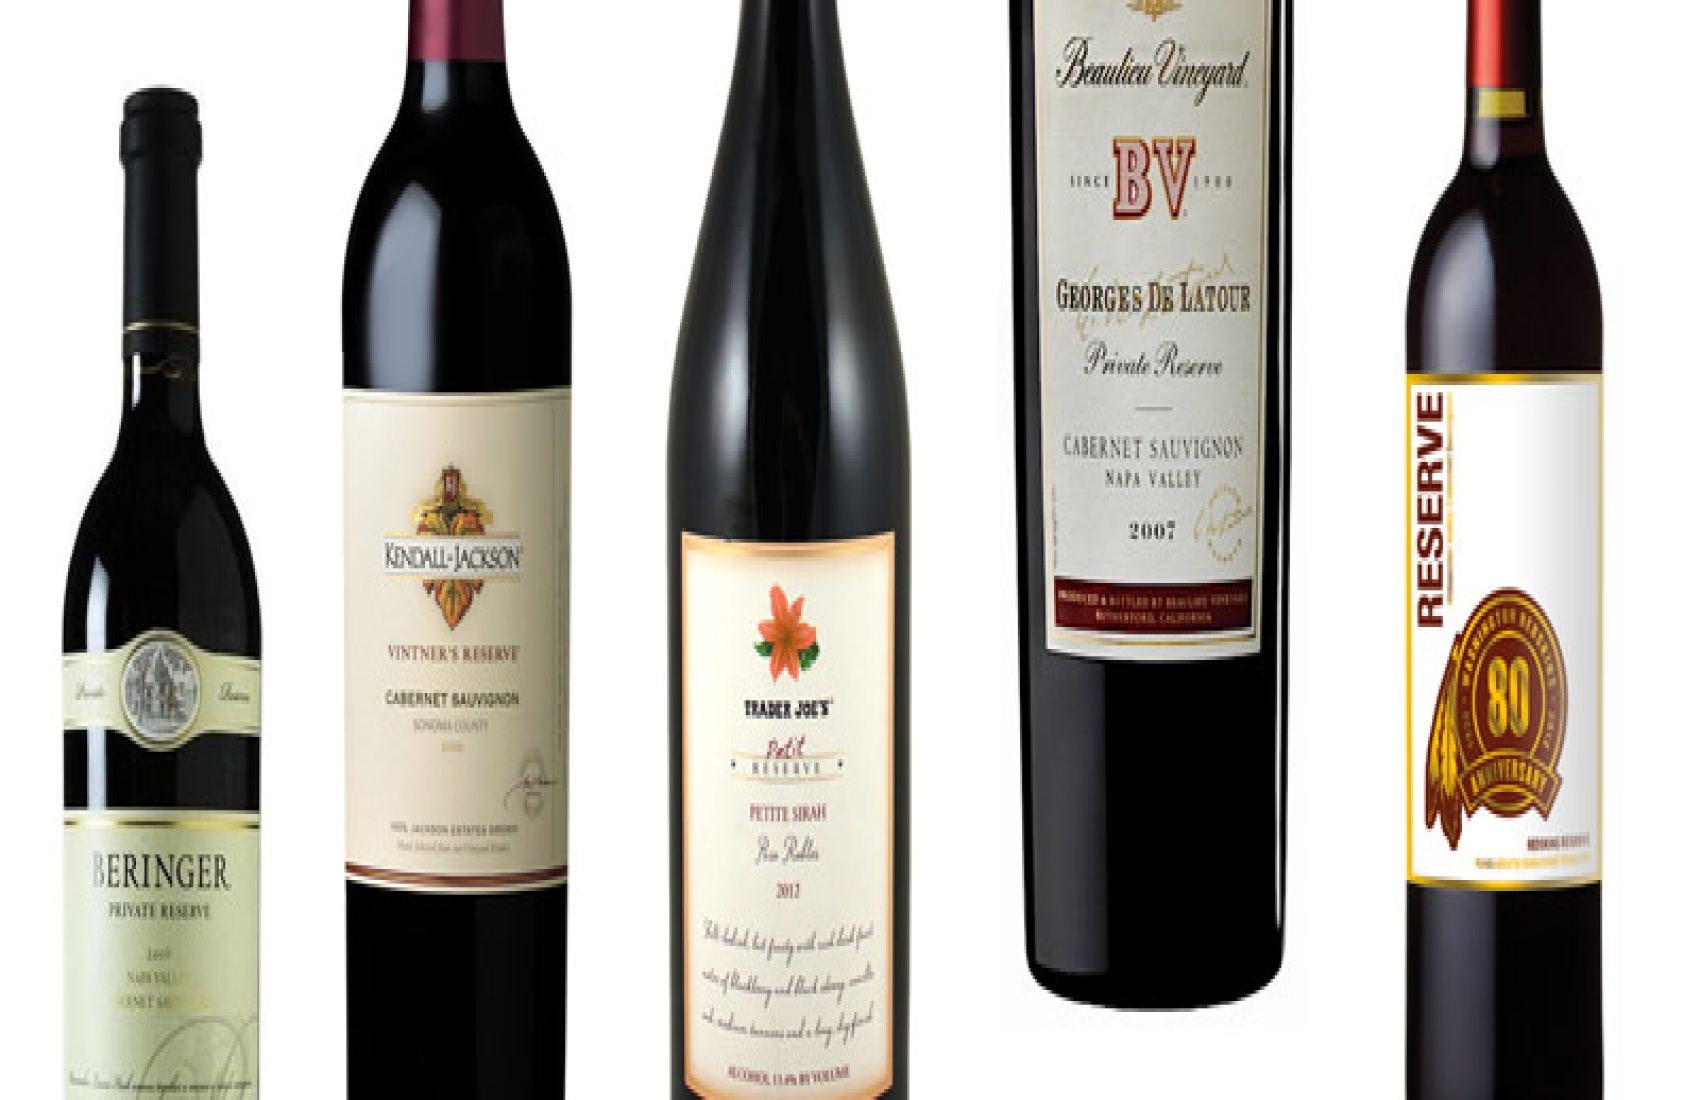wine: (336, 5, 577, 1100), (669, 1, 911, 1094), (64, 84, 260, 1100), (1408, 84, 1603, 1100)
